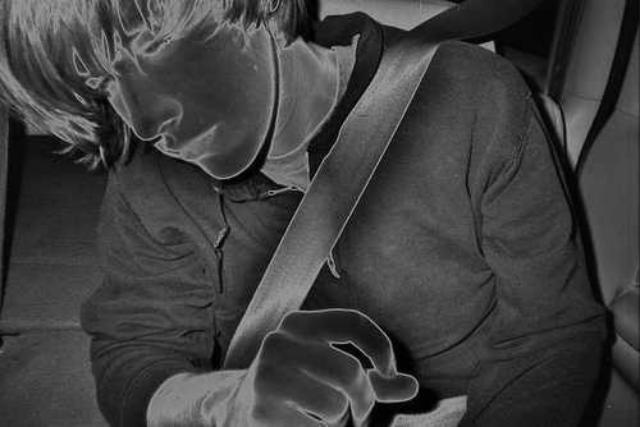Seatbelt: (218, 0, 542, 376)
